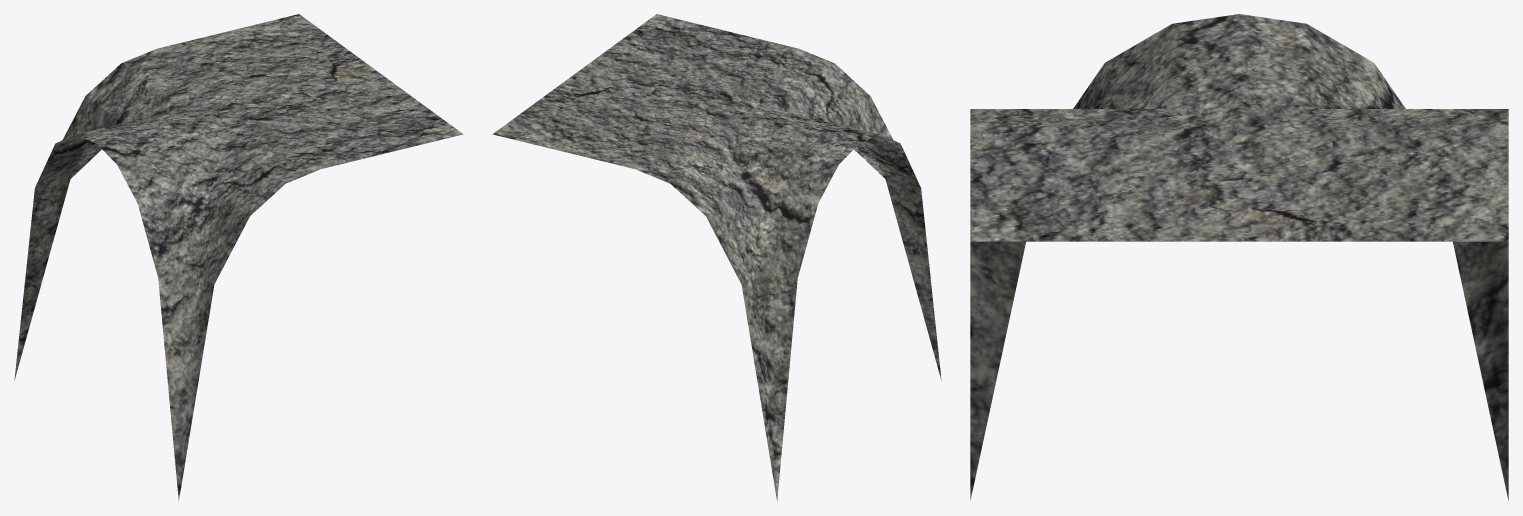
Rendered from Stone4c.obj.
The picture shows the model from 3 angles, left to right: view 1: azimuth 30°, elevation 25°; view 2: azimuth 150°, elevation 25°; view 3: azimuth 270°, elevation 25°; orthographic projection. The views are drawn at different scales.
Visible parts, largest first — view 1: Grid_Grid.020_Grid_Grid.039; view 2: Grid_Grid.020_Grid_Grid.039; view 3: Grid_Grid.020_Grid_Grid.039.
Part boxes in pixels (x1,y1,x2,y2): Grid_Grid.020_Grid_Grid.039: [14, 14, 463, 501]; Grid_Grid.020_Grid_Grid.039: [492, 14, 941, 501]; Grid_Grid.020_Grid_Grid.039: [970, 14, 1508, 500].
Size of the model in its own units: 1 by 1 by 1.
